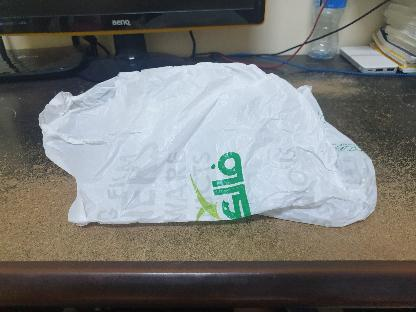Plastic Bag: (40, 62, 378, 228)
